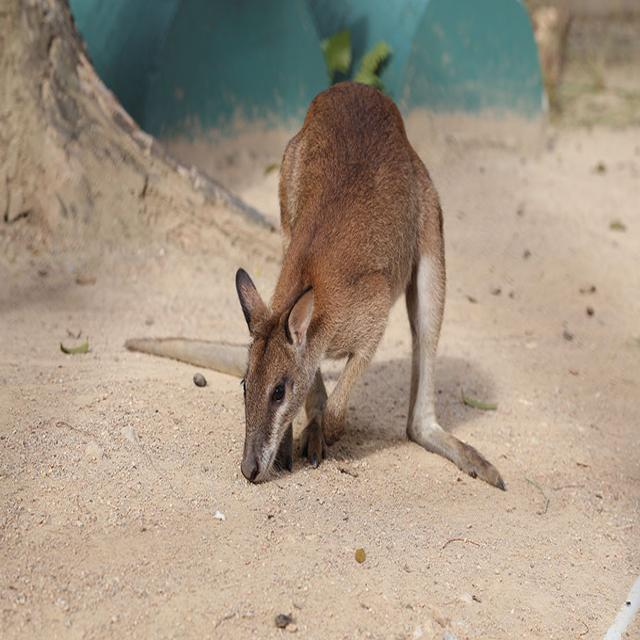kangaroo: (228, 87, 500, 485)
